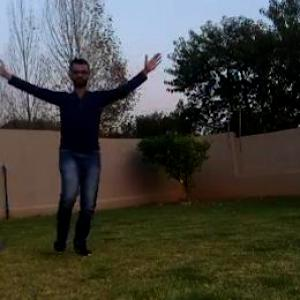takeoff: (1, 56, 152, 260)
